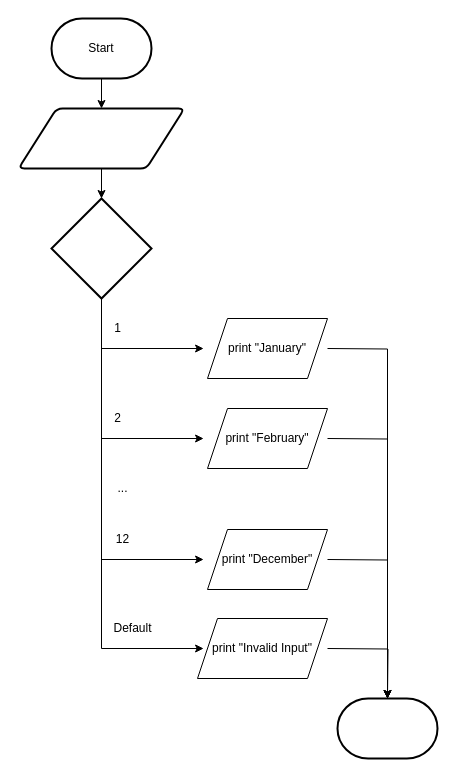
The diagram is 455 pixels wide and 776 high, and some of its shapes have lost their labels. The shapes that lost their labels are listed below. From the top down, each one's centre as x and y in pixels, then its label:
(101,138): Get month number
(101,248): month number
(387,728): Stop
